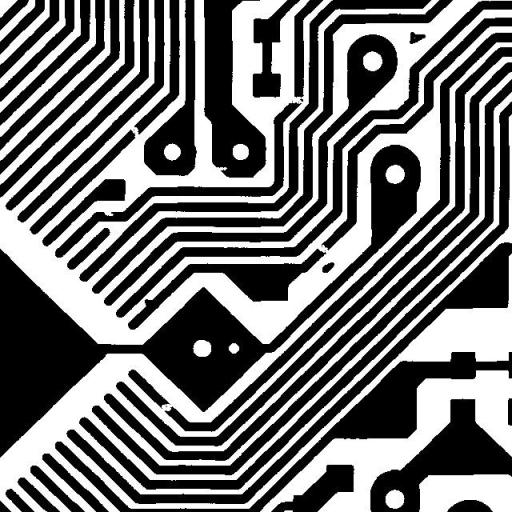copper: (402, 24, 432, 51), (314, 254, 342, 280)
mousebite: (206, 159, 234, 178), (96, 202, 121, 223)
open: (309, 237, 343, 262), (278, 89, 312, 112), (152, 396, 182, 418), (123, 118, 146, 145)
pin-hole: (221, 335, 246, 361)
spur: (137, 291, 160, 314)
